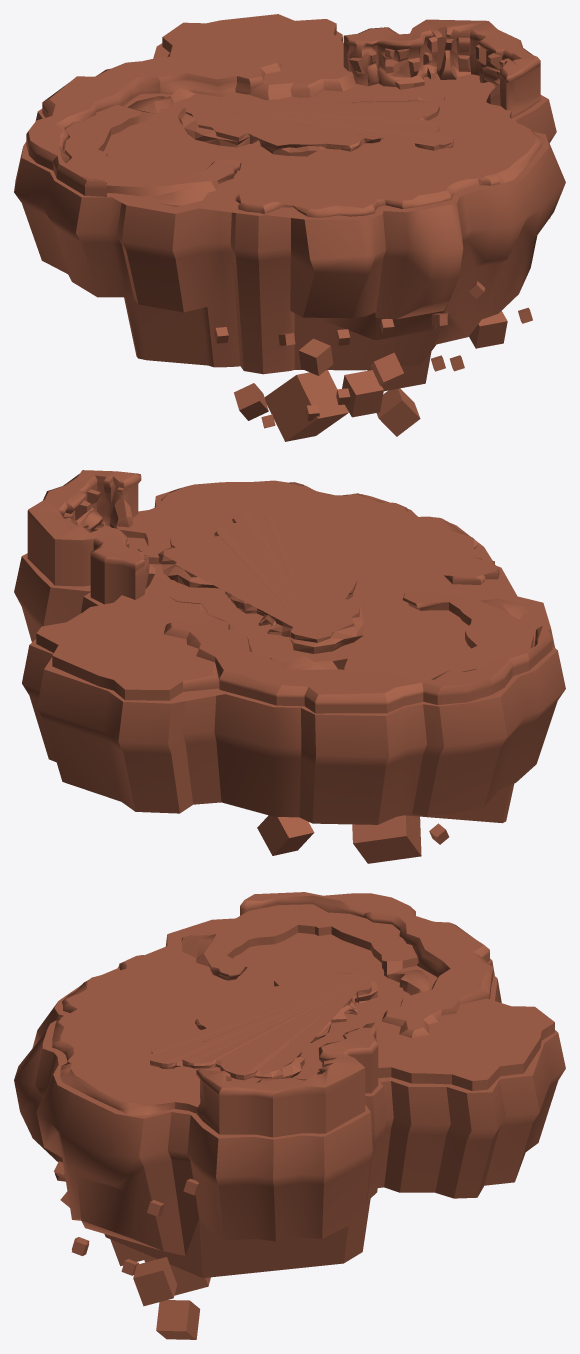
File: stage.fbx
3 views of the same model, one above another, from view 1: azimuth 30°, elevation 25°; view 2: azimuth 150°, elevation 25°; view 3: azimuth 270°, elevation 25° (orthographic). The views are drawn at different scales.
Parts seen in each view (by area): view 1: polySurface10, polySurface3, polySurface1, polySurface9, polySurface5, polySurface7, polySurface4, pCube20, pCube6, pCube11, pCube8, pCube14 (+3 smaller); view 2: polySurface10, polySurface3, polySurface1, polySurface5, polySurface7, polySurface9, polySurface4, pCube20, pCube11; view 3: polySurface10, polySurface3, polySurface1, polySurface9, polySurface7, polySurface5, polySurface4, pCube8, pCube11, pCube10.
Boxes of the visible parts, bbox=[...] form: polySurface10: bbox=[14, 31, 565, 374]; polySurface3: bbox=[235, 90, 545, 217]; polySurface1: bbox=[178, 92, 453, 156]; polySurface9: bbox=[343, 19, 540, 118]; polySurface5: bbox=[26, 56, 282, 196]; polySurface7: bbox=[162, 14, 355, 100]; polySurface4: bbox=[64, 88, 241, 206]; pCube20: bbox=[264, 370, 348, 441]; pCube6: bbox=[342, 370, 383, 417]; pCube11: bbox=[376, 388, 420, 436]; pCube8: bbox=[469, 311, 507, 348]; pCube14: bbox=[298, 338, 333, 375]; polySurface10: bbox=[14, 480, 565, 824]; polySurface3: bbox=[114, 481, 499, 584]; polySurface1: bbox=[158, 510, 363, 653]; polySurface5: bbox=[164, 619, 552, 713]; polySurface7: bbox=[36, 593, 234, 700]; polySurface9: bbox=[27, 470, 155, 604]; polySurface4: bbox=[270, 590, 533, 679]; pCube20: bbox=[352, 815, 421, 863]; pCube11: bbox=[257, 815, 314, 855]; polySurface10: bbox=[14, 918, 565, 1277]; polySurface3: bbox=[52, 955, 276, 1115]; polySurface1: bbox=[150, 971, 377, 1080]; polySurface9: bbox=[196, 1027, 378, 1137]; polySurface7: bbox=[363, 998, 554, 1090]; polySurface5: bbox=[240, 892, 493, 1038]; polySurface4: bbox=[181, 904, 429, 995]; pCube8: bbox=[133, 1257, 177, 1306]; pCube11: bbox=[156, 1300, 200, 1339]; pCube10: bbox=[142, 1253, 210, 1295].
Bounding box in the file's own units: 11.13 × 7.29 × 10.73.
